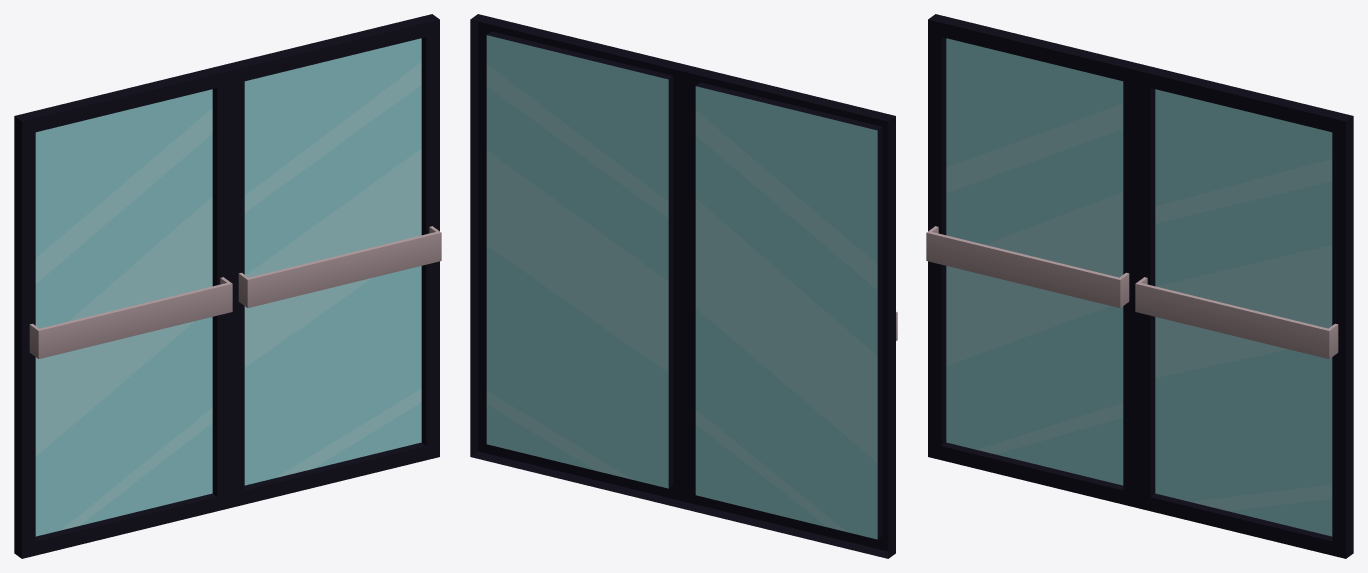
Rendered from GlassDoor_1.fbx.
3 renders of one model, left to right at view 1: azimuth 30°, elevation 25°; view 2: azimuth 150°, elevation 25°; view 3: azimuth 330°, elevation 25°, orthographic.
Parts seen in each view (by area): view 1: Plane.963; view 2: Plane.963; view 3: Plane.963.
Part boxes in pixels (x1=…): Plane.963: x1=14, y1=14, x2=441, y2=558; Plane.963: x1=470, y1=14, x2=897, y2=558; Plane.963: x1=926, y1=14, x2=1353, y2=558.
Bounding box in the file's own units: 300 × 300 × 20.9.
